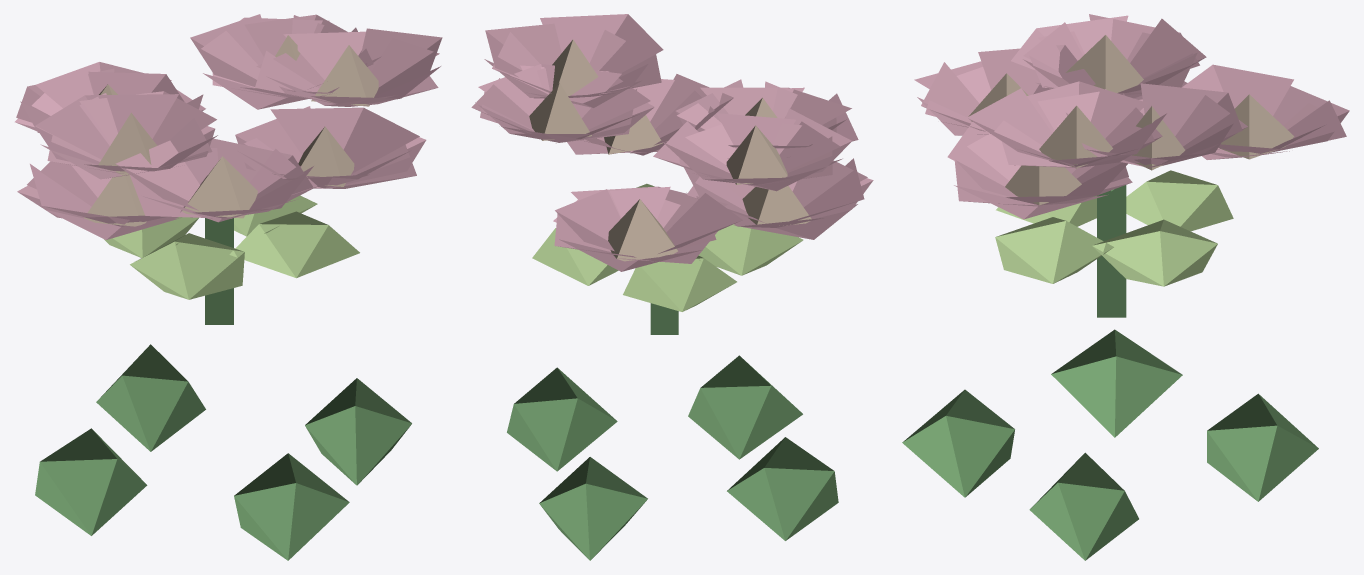
The model's file is shui.lian@flowering__summer.glb.
3 renders of one model, left to right at view 1: azimuth 30°, elevation 25°; view 2: azimuth 150°, elevation 25°; view 3: azimuth 270°, elevation 25°, orthographic. The views are drawn at different scales.
Parts seen in each view (by area): view 1: shui.lian@flowering__summer; view 2: shui.lian@flowering__summer; view 3: shui.lian@flowering__summer.
Boxes of the visible parts, left/top/right/bottom form: shui.lian@flowering__summer: left=15, top=14, right=442, bottom=560; shui.lian@flowering__summer: left=471, top=14, right=873, bottom=560; shui.lian@flowering__summer: left=902, top=14, right=1349, bottom=560.
Bounding box in the file's own units: 1.21 × 1.3 × 1.17.
